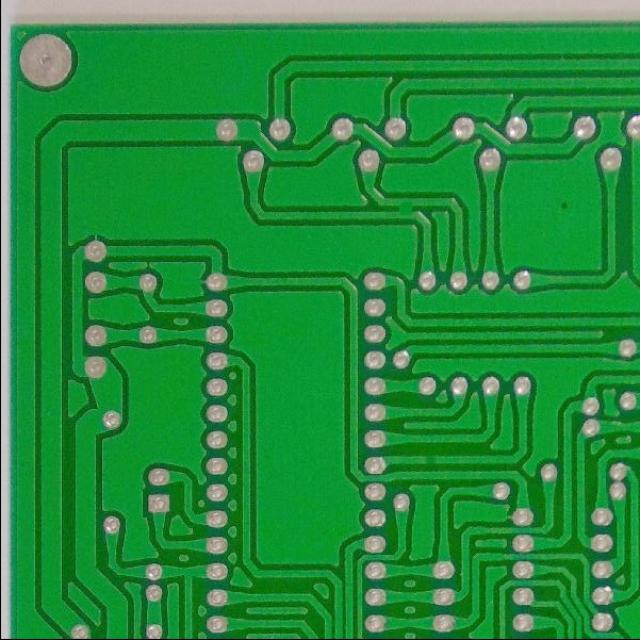short: (392, 198, 416, 222)
